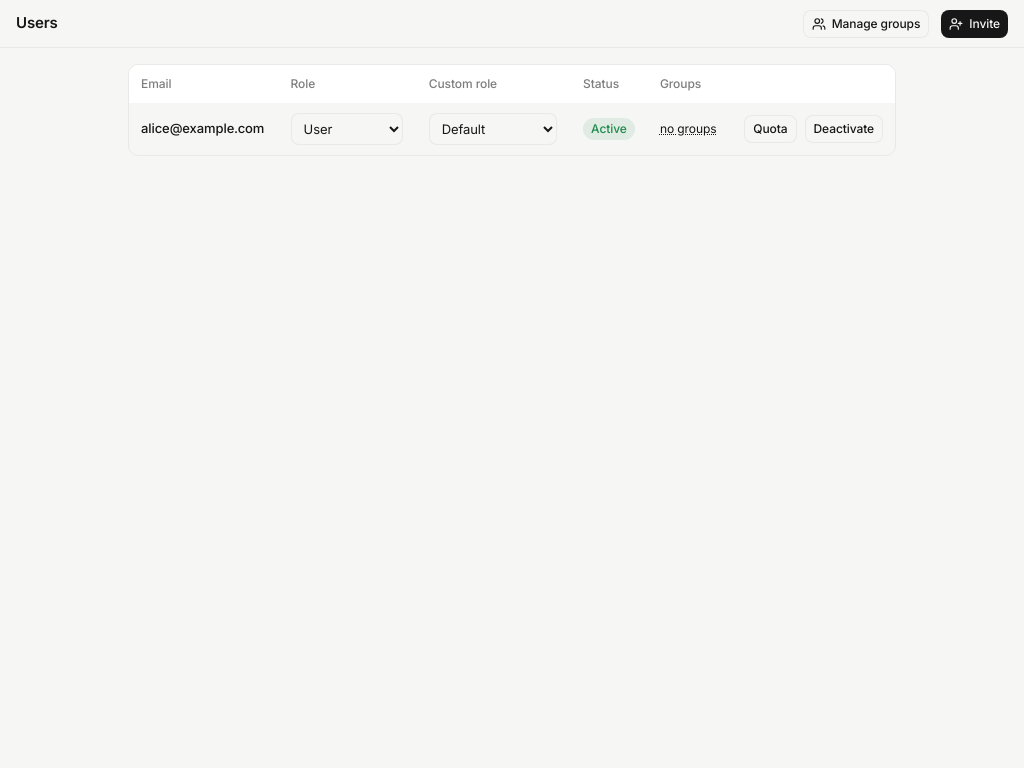
Test: clicking Quota opens the dialog and fetches that user's quota
This screenshot has width=1024, height=768.
Click the button "Quota".
click(770, 129)  # box [744,115,796,143]
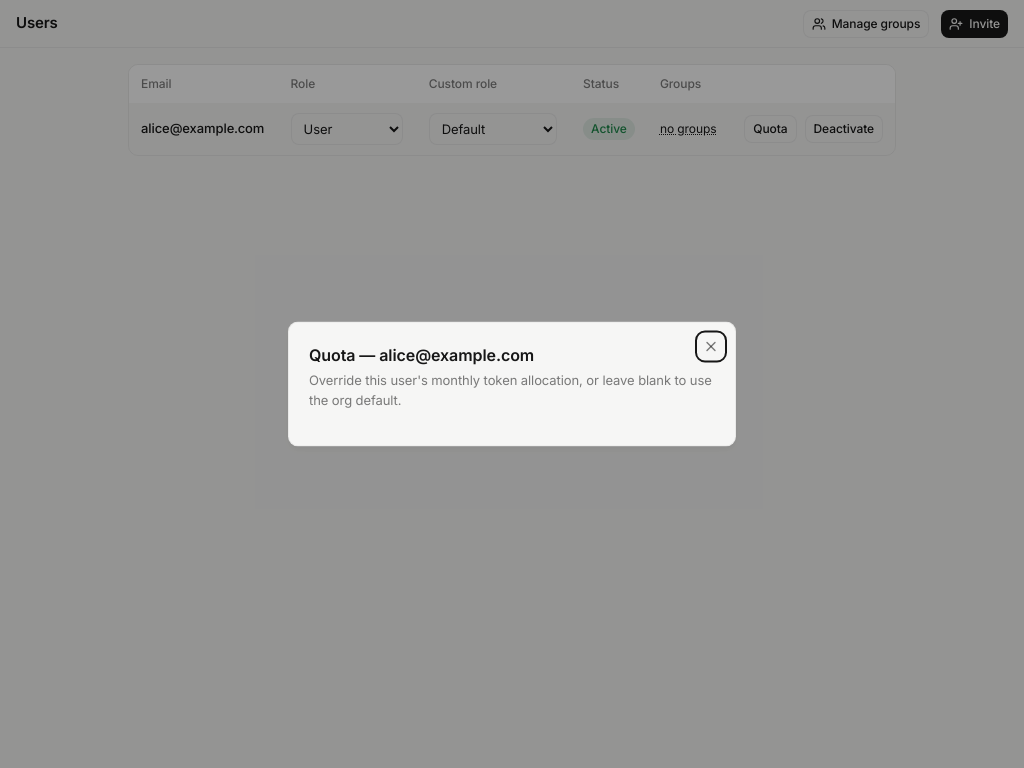
Result: the heading "Quota — alice@example.com" is shown at [309,344,534,364]
